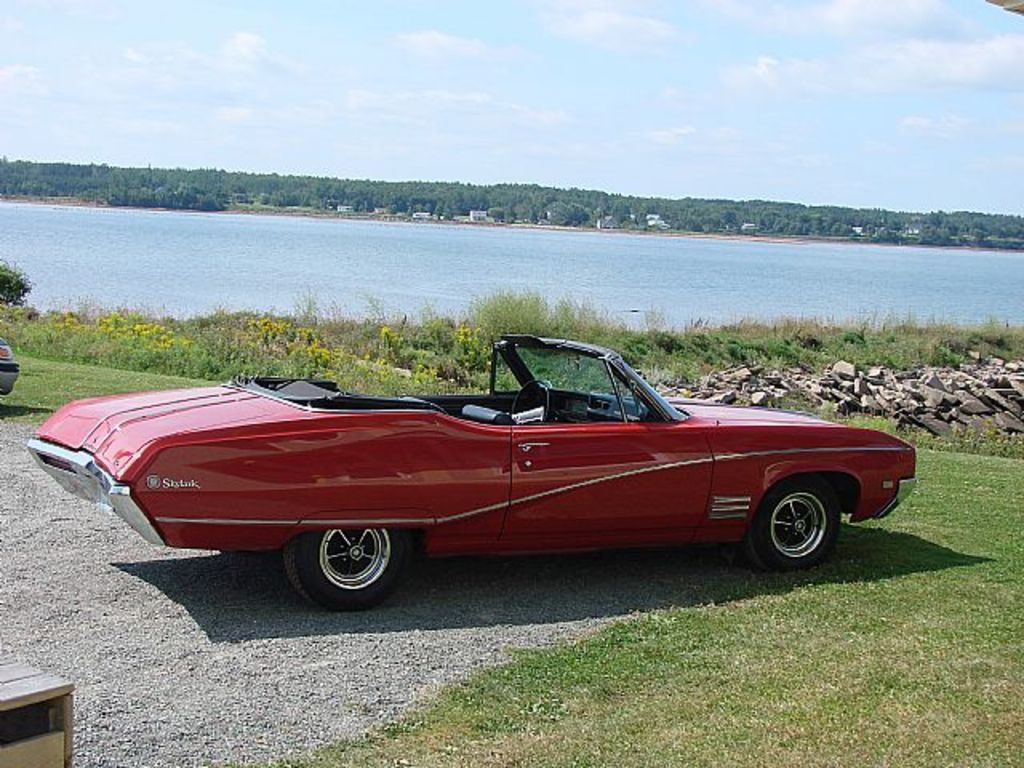Car: (25, 344, 918, 606)
